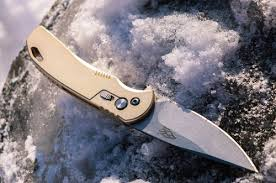knife: (25, 16, 261, 173)
